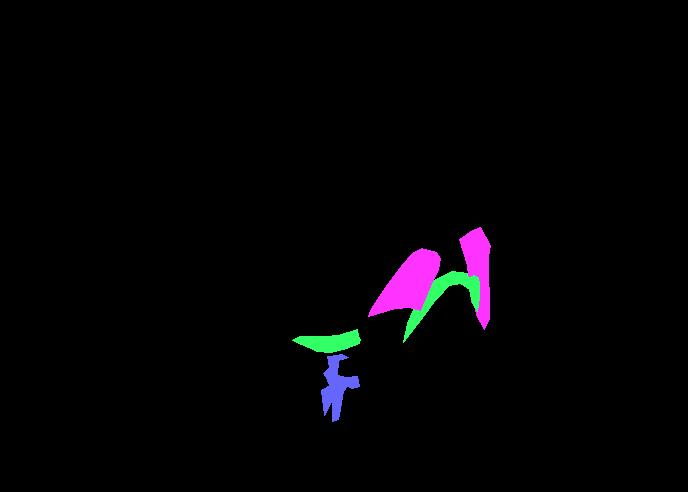Broken part: (403, 271, 479, 342), (292, 329, 360, 352), (469, 275, 479, 311)
Dent: (368, 248, 440, 316), (459, 227, 490, 329)
Scratch: (321, 354, 359, 421)
